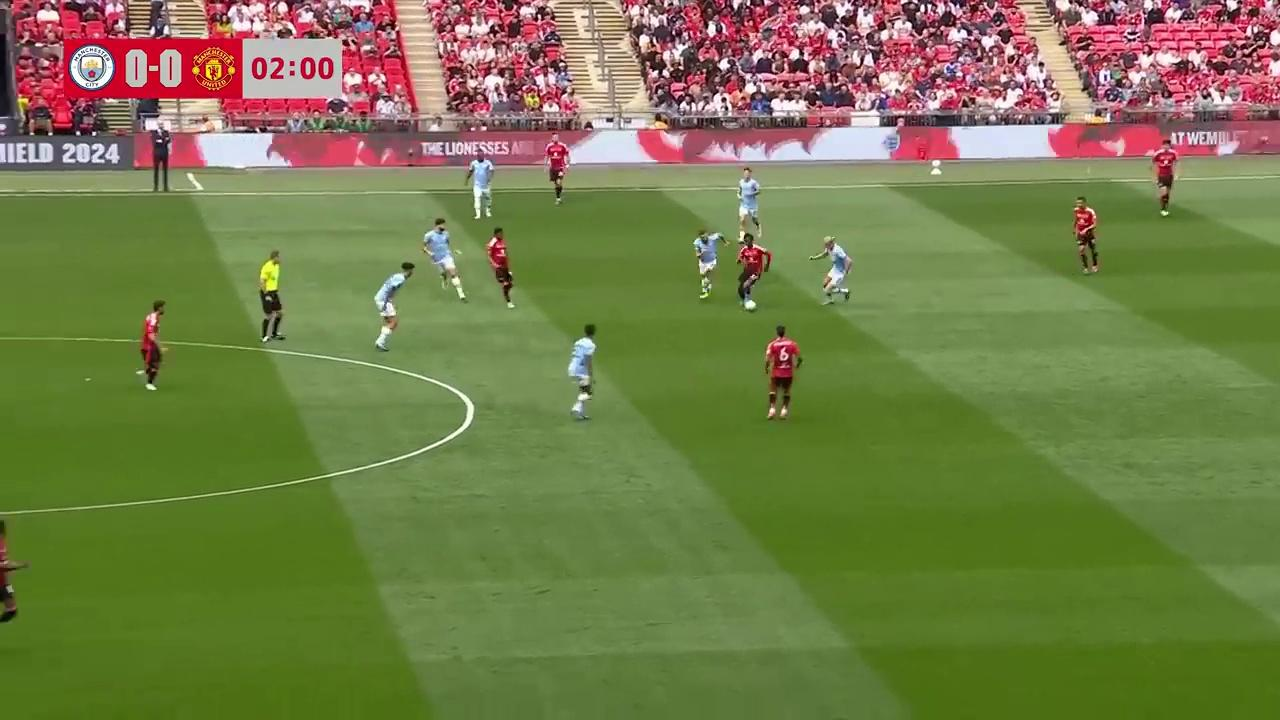ball: (744, 296, 757, 312)
player: (764, 324, 802, 421), (423, 222, 468, 302), (0, 518, 29, 623), (373, 266, 408, 350), (809, 236, 852, 304), (734, 233, 771, 311), (138, 300, 169, 391), (567, 324, 596, 418), (484, 226, 515, 308), (693, 229, 727, 299), (1072, 197, 1098, 273), (1150, 150, 1178, 216), (736, 168, 761, 241), (546, 128, 568, 204), (467, 156, 493, 219)
referee: (258, 250, 285, 342)
